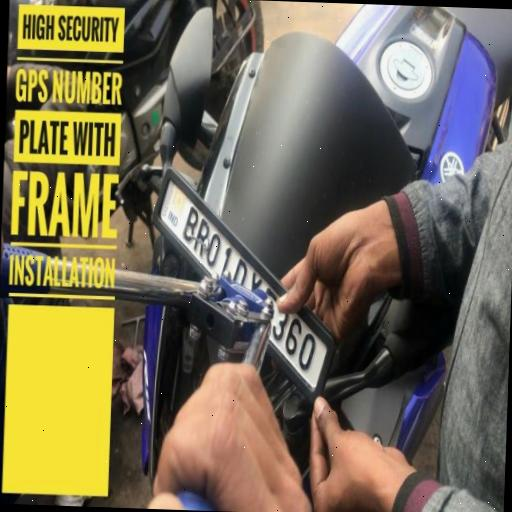number plate: (152, 170, 340, 392)
